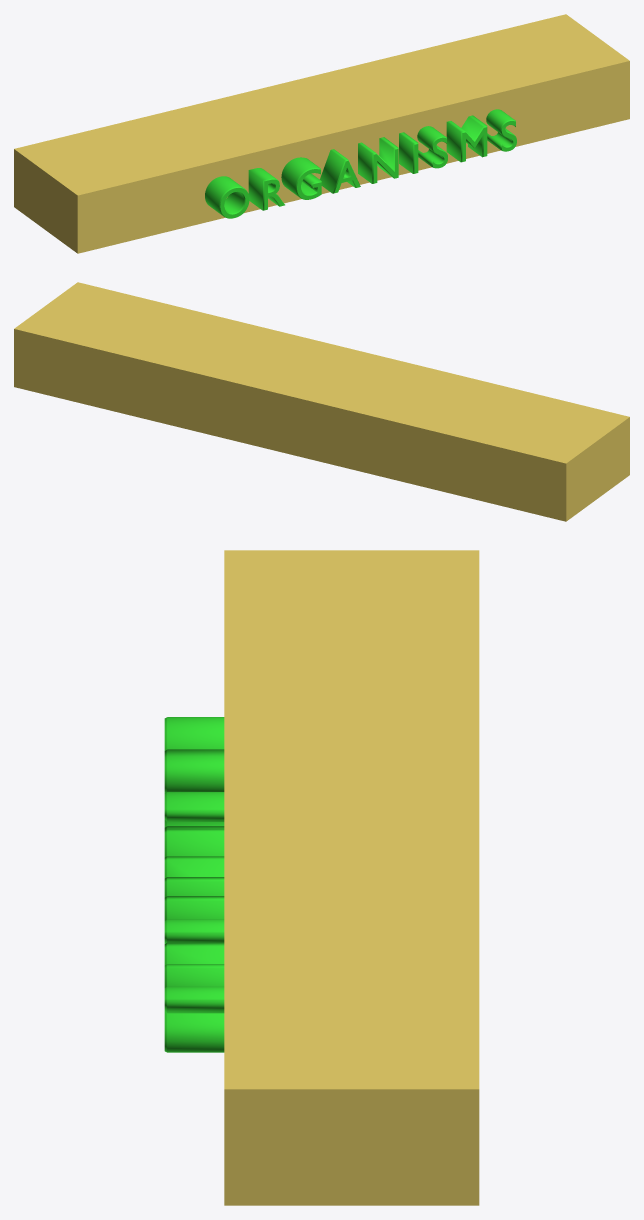
File: organism.gltf
3 renders of one model, top to bottom at view 1: azimuth 30°, elevation 25°; view 2: azimuth 150°, elevation 25°; view 3: azimuth 270°, elevation 25°, orthographic. The views are drawn at different scales.
Visible parts, largest first — view 1: Cube.004, CEELS.004; view 2: Cube.004; view 3: Cube.004, CEELS.004.
Part boxes in pixels (x1,y1,x2,y2): Cube.004: (14, 14, 629, 253); CEELS.004: (205, 109, 516, 218); Cube.004: (14, 282, 629, 521); Cube.004: (224, 550, 479, 1205); CEELS.004: (164, 717, 224, 1052).
Bounding box in the file's own units: 3.07 × 0.3096 × 0.7592.
